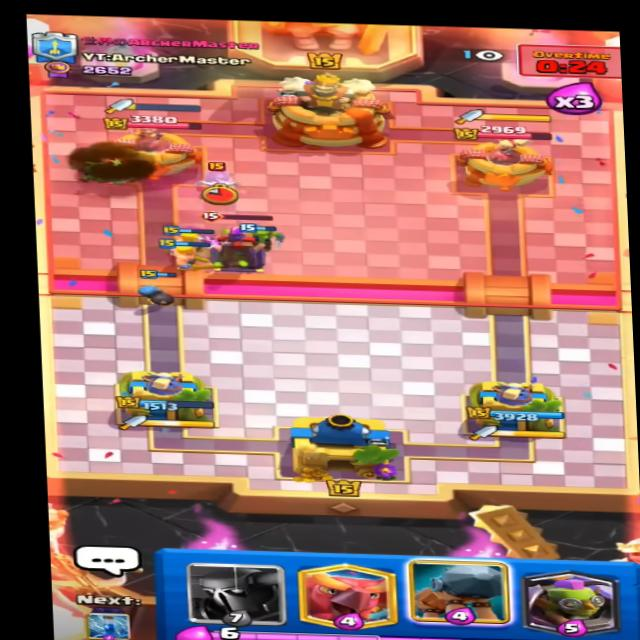electro-spirit: (200, 156, 249, 196)
evo-tesla: (197, 209, 289, 275)
